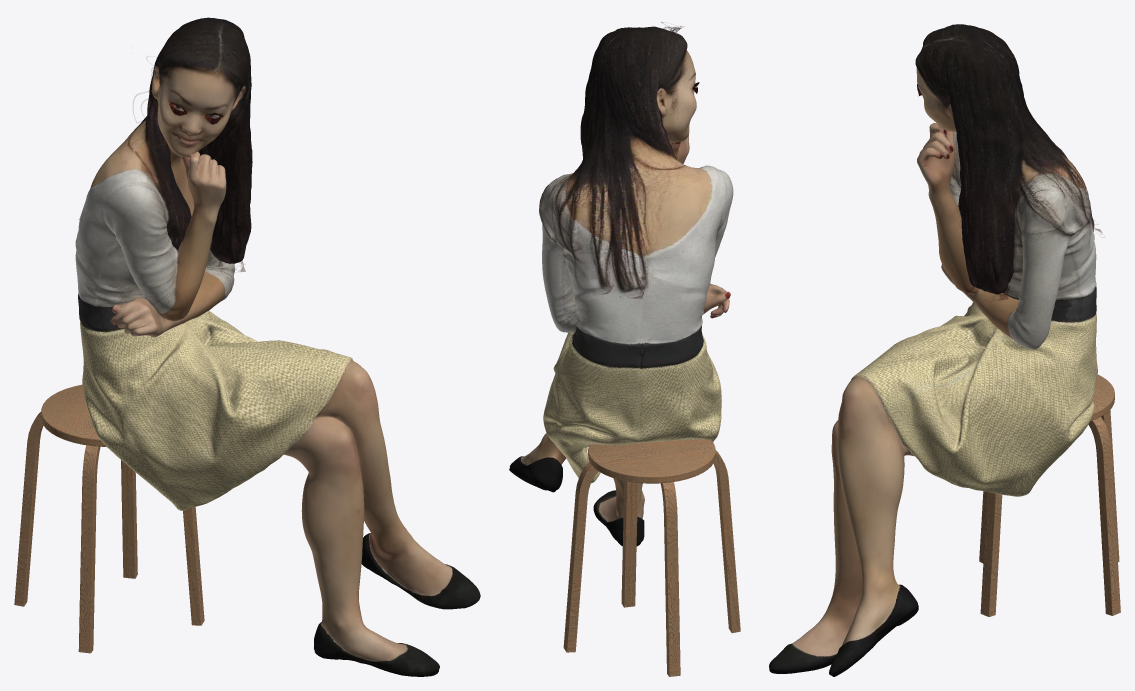
The model's file is 人物其它_坐姿托腮女性_opt.glb.
The picture shows the model from 3 angles, left to right: view 1: azimuth 30°, elevation 25°; view 2: azimuth 150°, elevation 25°; view 3: azimuth 270°, elevation 25°; orthographic projection. The views are drawn at different scales.
Parts seen in each view (by area): view 1: GTP_CWman_Paula_07_Stt_Lsn_Sd_Adl_Asn_GTP_CWman_Paula_07_Stt (×2), GTA_Stool_Wood_Bright_GTT_Wood_Bright_0; view 2: GTP_CWman_Paula_07_Stt_Lsn_Sd_Adl_Asn_GTP_CWman_Paula_07_Stt (×2), GTA_Stool_Wood_Bright_GTT_Wood_Bright_0; view 3: GTP_CWman_Paula_07_Stt_Lsn_Sd_Adl_Asn_GTP_CWman_Paula_07_Stt (×2), GTA_Stool_Wood_Bright_GTT_Wood_Bright_0.
Boxes of the visible parts, x1=… form: GTP_CWman_Paula_07_Stt_Lsn_Sd_Adl_Asn_GTP_CWman_Paula_07_Stt (×2): x1=75, y1=17, x2=480, y2=676; GTA_Stool_Wood_Bright_GTT_Wood_Bright_0: x1=14, y1=384, x2=204, y2=653; GTP_CWman_Paula_07_Stt_Lsn_Sd_Adl_Asn_GTP_CWman_Paula_07_Stt (×2): x1=509, y1=26, x2=733, y2=546; GTA_Stool_Wood_Bright_GTT_Wood_Bright_0: x1=563, y1=439, x2=740, y2=676; GTP_CWman_Paula_07_Stt_Lsn_Sd_Adl_Asn_GTP_CWman_Paula_07_Stt (×2): x1=769, y1=24, x2=1097, y2=676; GTA_Stool_Wood_Bright_GTT_Wood_Bright_0: x1=979, y1=374, x2=1120, y2=616.
Bounding box in the file's own units: 0.1626 × 0.3 × 0.1601.
6 materials, 6 textured.
